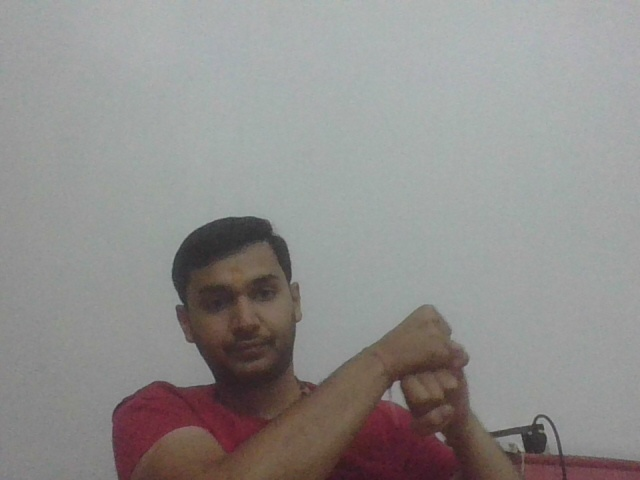S: (395, 306, 480, 438)
